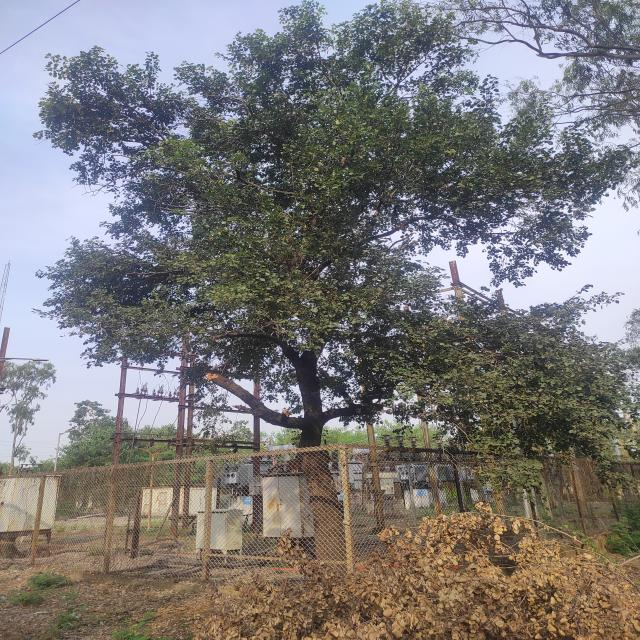Devakanchan tree: (105, 55, 512, 427)
